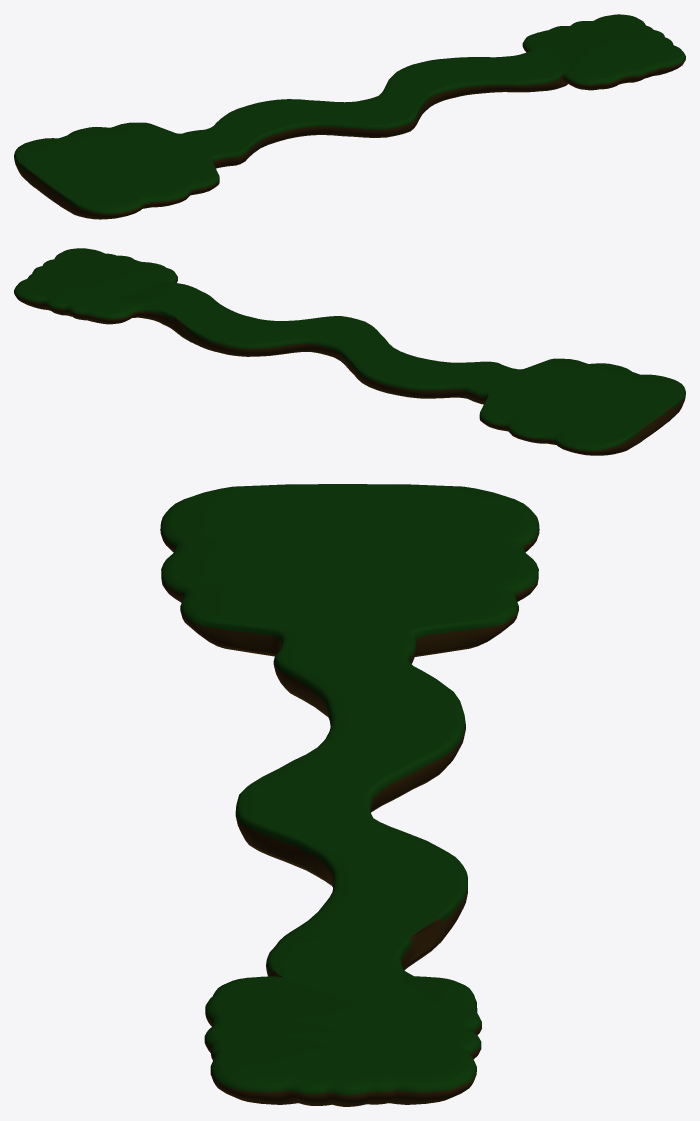
File: TutorialEnd.fbx
The picture shows the model from 3 angles, top to bottom: view 1: azimuth 30°, elevation 25°; view 2: azimuth 150°, elevation 25°; view 3: azimuth 270°, elevation 25°; orthographic projection. The views are drawn at different scales.
Visible parts, largest first — view 1: Cylinder; view 2: Cylinder; view 3: Cylinder.
Part boxes in pixels (<box>): Cylinder: <box>14,14,685,219</box>; Cylinder: <box>14,248,685,455</box>; Cylinder: <box>160,484,539,1106</box>.
Size of the model in its own units: 12236 by 333 by 3247.
